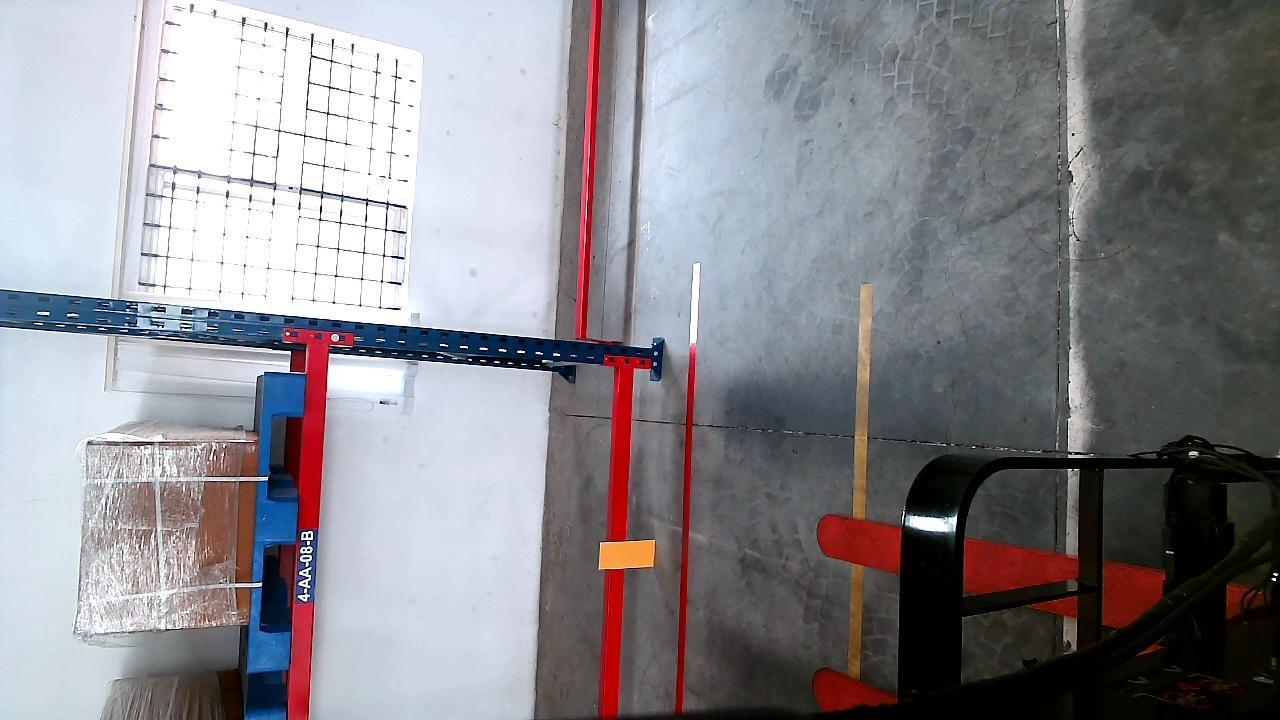h_rack: (292, 345, 331, 711), (605, 351, 634, 702)
orange_strip: (602, 540, 653, 570)
red_line: (673, 258, 700, 712)
small_pallet: (250, 368, 306, 668)
yellow_line: (848, 281, 872, 679)
